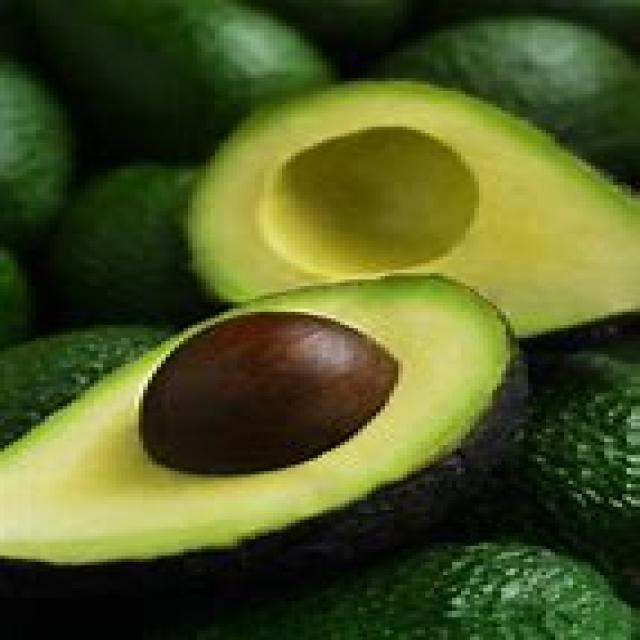Avocado: (1, 255, 536, 598), (186, 46, 640, 333)
